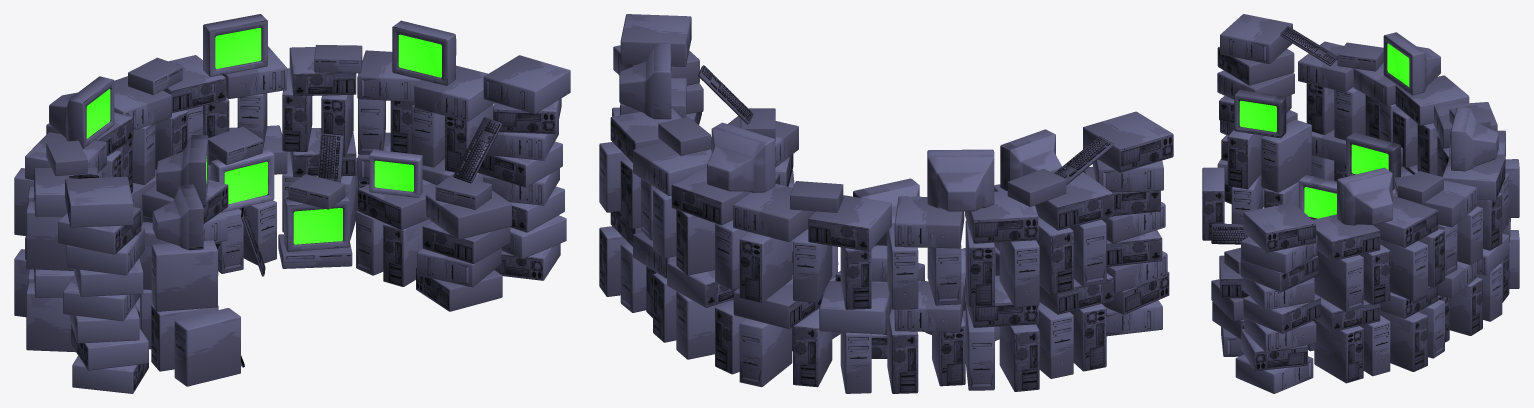
Rendered from computers.glb.
3 renders of one model, left to right at view 1: azimuth 30°, elevation 25°; view 2: azimuth 150°, elevation 25°; view 3: azimuth 270°, elevation 25°, orthographic. The views are drawn at different scales.
Visible parts, largest first — view 1: PC 01.011, PC 01.010, PC 02.026, Screen D.003, Screen D.004, PC 02.012, Screen D.002, Screen D.001, PC 01.052, Screen C.001, PC 01.007, Screen B.002 (+66 smaller); view 2: Screen D.003, Screen D.002, PC 02.012, PC 01.032, PC 02.021, PC 01.031, Screen D.004, PC 02.016, PC 01.033, PC 02.026, PC 02.022, PC 01.030 (+57 smaller); view 3: PC 01.005, Screen D.004, PC 02.026, PC 02.012, Screen D.002, PC 02.027, PC 02.032, Screen D.003, Screen B.002, PC 01.052, PC 01.038, PC 01.047 (+60 smaller).
Boxes of the visible parts, x1=… form: PC 01.011: x1=174, y1=308, x2=240, y2=386; PC 01.010: x1=151, y1=240, x2=217, y2=311; PC 02.026: x1=483, y1=55, x2=570, y2=113; Screen D.003: x1=203, y1=14, x2=267, y2=76; Screen D.004: x1=392, y1=20, x2=456, y2=85; PC 02.012: x1=65, y1=176, x2=133, y2=227; Screen D.002: x1=49, y1=76, x2=114, y2=148; Screen D.001: x1=284, y1=194, x2=349, y2=251; PC 01.052: x1=414, y1=65, x2=494, y2=121; Screen C.001: x1=210, y1=148, x2=274, y2=212; PC 01.007: x1=425, y1=190, x2=511, y2=239; Screen B.002: x1=152, y1=184, x2=203, y2=250; Screen D.003: x1=707, y1=122, x2=775, y2=192; Screen D.002: x1=927, y1=149, x2=994, y2=211; PC 02.012: x1=1083, y1=111, x2=1173, y2=172; PC 01.032: x1=808, y1=195, x2=891, y2=251; PC 02.021: x1=739, y1=232, x2=792, y2=302; PC 01.031: x1=894, y1=196, x2=964, y2=248; Screen D.004: x1=619, y1=44, x2=671, y2=119; PC 02.016: x1=739, y1=318, x2=792, y2=387; PC 01.033: x1=733, y1=183, x2=814, y2=241; PC 02.026: x1=620, y1=14, x2=691, y2=66; PC 02.022: x1=965, y1=191, x2=1038, y2=243; PC 01.030: x1=1035, y1=172, x2=1113, y2=230; PC 01.005: x1=1261, y1=119, x2=1311, y2=192; Screen D.004: x1=1337, y1=167, x2=1392, y2=225; PC 02.026: x1=1243, y1=202, x2=1316, y2=252; PC 02.012: x1=1220, y1=14, x2=1292, y2=63; Screen D.002: x1=1383, y1=32, x2=1440, y2=95; PC 02.027: x1=1314, y1=320, x2=1363, y2=383; PC 02.032: x1=1314, y1=250, x2=1363, y2=312; Screen D.003: x1=1451, y1=107, x2=1498, y2=171; Screen B.002: x1=1234, y1=90, x2=1286, y2=138; PC 01.052: x1=1313, y1=214, x2=1380, y2=261; PC 01.038: x1=1380, y1=311, x2=1427, y2=371; PC 01.047: x1=1380, y1=240, x2=1427, y2=301.
Bounding box in the file's own units: 14.29 × 5.52 × 8.69.
Materials: 2 (1 with a texture image).
